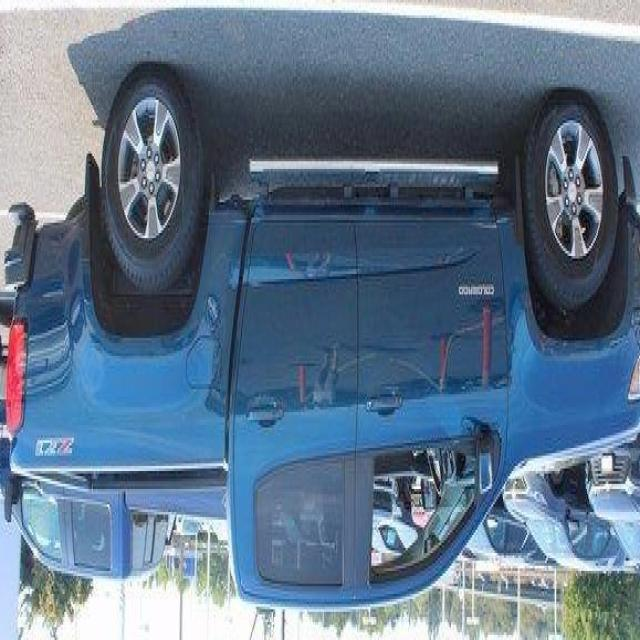blue: (0, 0, 619, 596)
